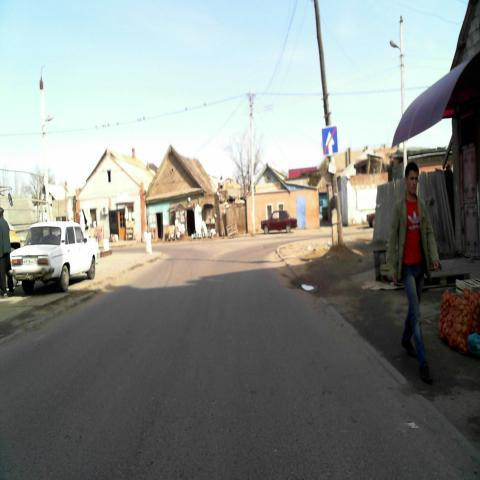5_6: (321, 126, 337, 154)
